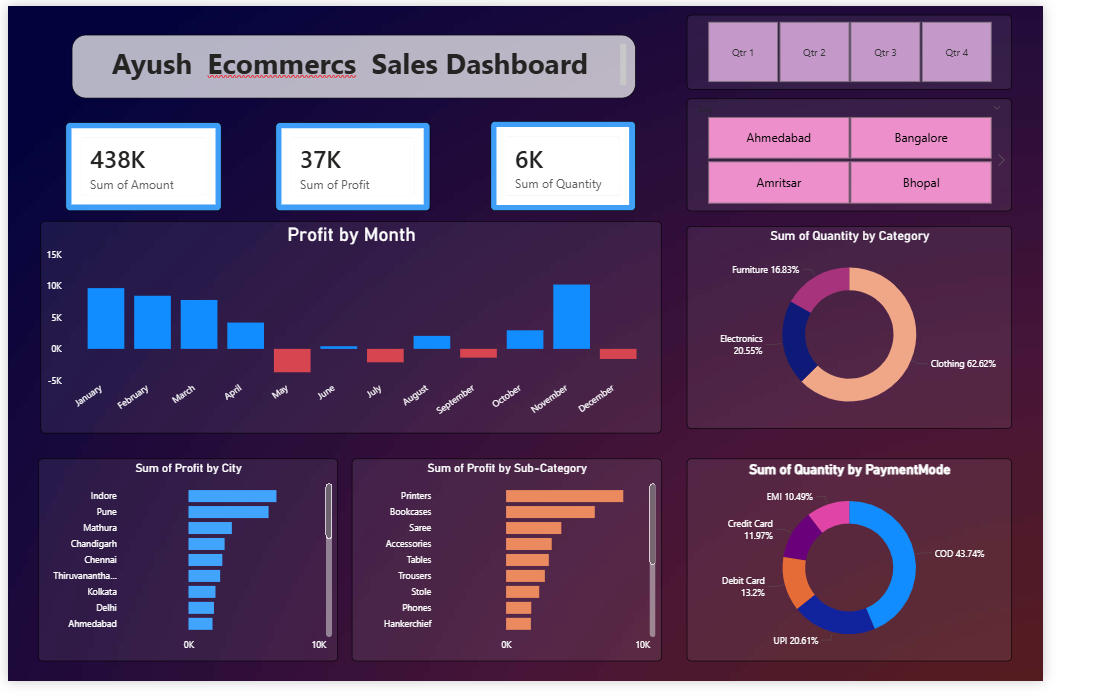

The page's visual inventory and layout, read from the dashboard file:
{"tool":"powerbi","page":{"name":"Page 1","canvas":[1380,900],"ordinal":0},"visuals":[{"type":"columnChart","title":"Profit by Month","fields":{"Category":["Orders.Order Date.Variation.Date Hierarchy.Month"],"Y":["Sum(Details.Profit)"]},"box":[43.3,286.7,828.3,283.3],"z":0},{"type":"barChart","fields":{"Category":["Details.Sub-Category"],"Y":["Sum(Details.Profit)"]},"box":[458.3,603.3,413.3,270],"z":1000},{"type":"donutChart","fields":{"Category":["Details.Category"],"Y":["Sum(Details.Quantity)"]},"box":[905,293.3,433.3,270],"z":2000},{"type":"donutChart","fields":{"Category":["Details.PaymentMode","Details.Category"],"Y":["Sum(Details.Quantity)"]},"box":[905,603.3,433.3,270],"z":3000},{"type":"cardVisual","fields":{"Data":["Sum(Details.Amount)"]},"box":[76.7,155,208.3,118.3],"z":4000},{"type":"cardVisual","fields":{"Data":["Sum(Details.Profit)"]},"box":[356.7,155,206.7,118.3],"z":5000},{"type":"cardVisual","fields":{"Data":["Sum(Details.Quantity)"]},"box":[643.3,153.3,193.3,120],"z":6000},{"type":"barChart","fields":{"Category":["Orders.City"],"Y":["Sum(Details.Profit)"]},"box":[40,603.3,400,270],"z":8000},{"type":"textbox","box":[85,38.3,751.7,85],"z":9000},{"type":"slicer","fields":{"Values":["Orders.Order Date.Variation.Date Hierarchy.Quarter"]},"box":[905,11.7,433.3,100],"z":9001},{"type":"slicer","fields":{"Values":["Orders.City"]},"box":[905,123.3,433.3,150],"z":9002}]}

Visuals, with their boxes in screenshot pixels (x1, y1, x2, y2), scaled from the page's 1380x900 canvas onto the 1093x698 screenshot:
"Profit by Month" columnChart: x1=34, y1=222, x2=690, y2=442
barChart - Details.Sub-Category x Sum(Details.Profit): x1=363, y1=468, x2=690, y2=677
donutChart - Details.Category x Sum(Details.Quantity): x1=717, y1=227, x2=1060, y2=437
donutChart - Details.PaymentMode x Details.Category: x1=717, y1=468, x2=1060, y2=677
cardVisual - Sum(Details.Amount): x1=61, y1=120, x2=226, y2=212
cardVisual - Sum(Details.Profit): x1=283, y1=120, x2=446, y2=212
cardVisual - Sum(Details.Quantity): x1=510, y1=119, x2=663, y2=212
barChart - Orders.City x Sum(Details.Profit): x1=32, y1=468, x2=348, y2=677
textbox: x1=67, y1=30, x2=663, y2=96
slicer - Orders.Order Date.Variation.Date Hierarchy.Quarter: x1=717, y1=9, x2=1060, y2=87
slicer - Orders.City: x1=717, y1=96, x2=1060, y2=212
